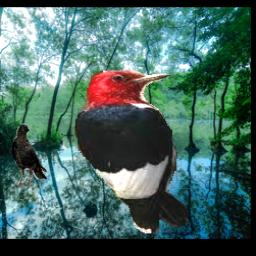Crow: (10, 123, 47, 186)
Woodpecker: (71, 71, 189, 233)
